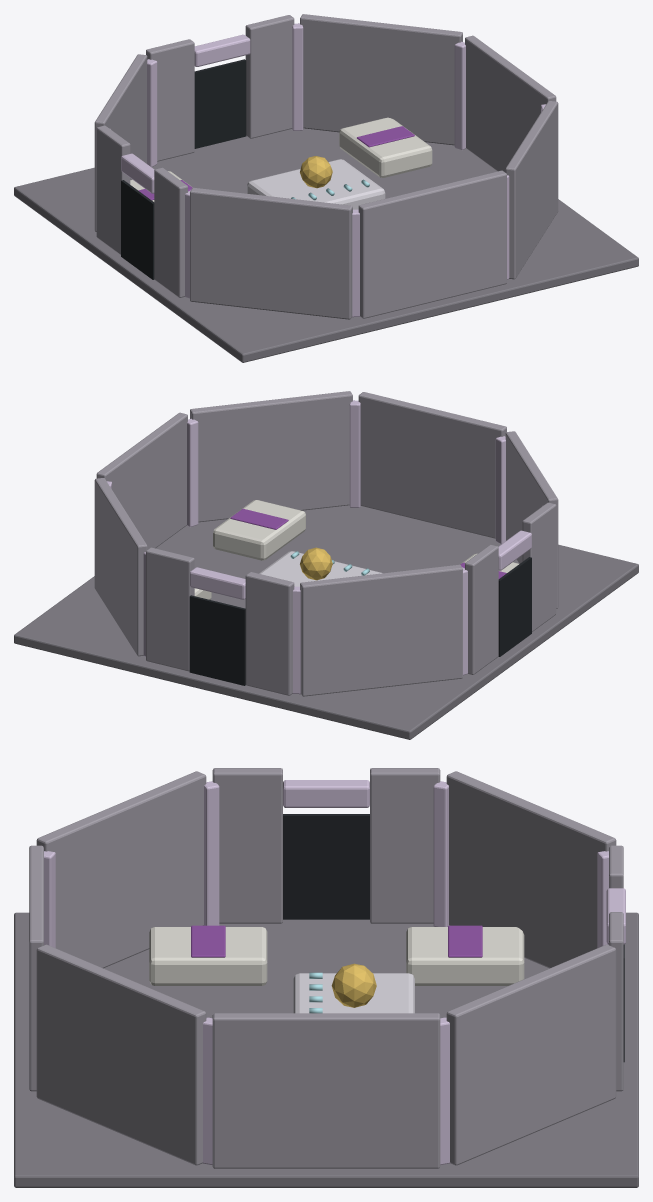
Rendered from pendelhaven_hospice_4169.glb.
3 views of the same model, one above another, from view 1: azimuth 30°, elevation 25°; view 2: azimuth 150°, elevation 25°; view 3: azimuth 270°, elevation 25° (orthographic). The views are drawn at different scales.
Visible parts, largest first — view 1: Room floor, SW solid wall, S solid wall, NE solid wall, E solid wall, SE solid wall, N doorway right, N doorway left, N passage shadow, W doorway left, NW solid wall, Sphere of Life altar (+12 smaller); view 2: Room floor, NW solid wall, SE solid wall, S solid wall, E solid wall, NE solid wall, N doorway left, N doorway right, N passage shadow, W doorway right, SW solid wall, Healing cot.003 (+12 smaller); view 3: Room floor, E solid wall, NE solid wall, SE solid wall, SW solid wall, NW solid wall, W doorway left, W doorway right, W passage shadow, Healing cot.002, Healing cot, Sphere of Life altar (+14 smaller).
Boxes of the visible parts, left/top/right/bottom form: Room floor: left=14, top=128, right=638, bottom=362; SW solid wall: left=190, top=187, right=352, bottom=319; S solid wall: left=358, top=170, right=506, bottom=318; NE solid wall: left=300, top=14, right=462, bottom=145; E solid wall: left=465, top=35, right=556, bottom=172; SE solid wall: left=505, top=101, right=558, bottom=279; N doorway right: left=245, top=15, right=294, bottom=138; N doorway left: left=146, top=39, right=194, bottom=161; N passage shadow: left=194, top=59, right=246, bottom=148; W doorway left: left=154, top=167, right=187, bottom=297; NW solid wall: left=94, top=54, right=147, bottom=231; Sphere of Life altar: left=247, top=159, right=385, bottom=209; Room floor: left=14, top=505, right=638, bottom=739; NW solid wall: left=300, top=564, right=462, bottom=696; SE solid wall: left=190, top=391, right=352, bottom=522; S solid wall: left=358, top=392, right=506, bottom=538; E solid wall: left=96, top=412, right=187, bottom=549; NE solid wall: left=94, top=478, right=147, bottom=656; N doorway left: left=245, top=572, right=294, bottom=695; N doorway right: left=146, top=547, right=194, bottom=671; N passage shadow: left=189, top=595, right=245, bottom=685; W doorway right: left=465, top=544, right=498, bottom=674; SW solid wall: left=505, top=431, right=558, bottom=608; Healing cot.003: left=213, top=500, right=305, bottom=560; Room floor: left=14, top=912, right=638, bottom=1187; E solid wall: left=212, top=1013, right=440, bottom=1168; NE solid wall: left=446, top=944, right=616, bottom=1165; SE solid wall: left=36, top=944, right=206, bottom=1165; SW solid wall: left=36, top=771, right=206, bottom=968; NW solid wall: left=446, top=771, right=616, bottom=968; W doorway left: left=212, top=768, right=282, bottom=923; W doorway right: left=370, top=768, right=440, bottom=923; W passage shadow: left=283, top=814, right=369, bottom=919; Healing cot.002: left=149, top=927, right=267, bottom=985; Healing cot: left=406, top=927, right=524, bottom=985; Sphere of Life altar: left=293, top=973, right=414, bottom=1013.
Size of the model in its own units: 18 by 5.2 by 18.
